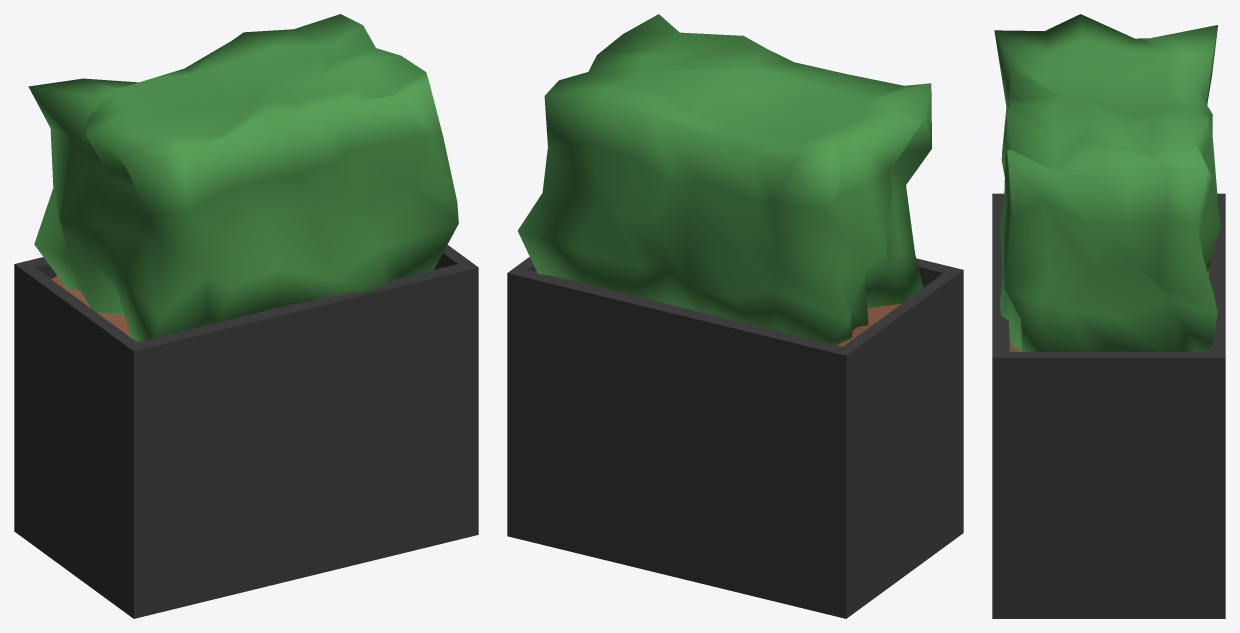
Rendered from M_Plantpot_Small_1.fbx.
3 views of the same model, side by side, from view 1: azimuth 30°, elevation 25°; view 2: azimuth 150°, elevation 25°; view 3: azimuth 270°, elevation 25° (orthographic). The views are drawn at different scales.
Visible parts, largest first — view 1: M_Plantpot_Small_1; view 2: M_Plantpot_Small_1; view 3: M_Plantpot_Small_1.
Part boxes in pixels (<box>): M_Plantpot_Small_1: <box>14,14,478,618</box>; M_Plantpot_Small_1: <box>507,14,963,618</box>; M_Plantpot_Small_1: <box>992,14,1225,618</box>.
Bounding box in the file's own units: 403 × 510 × 240.
